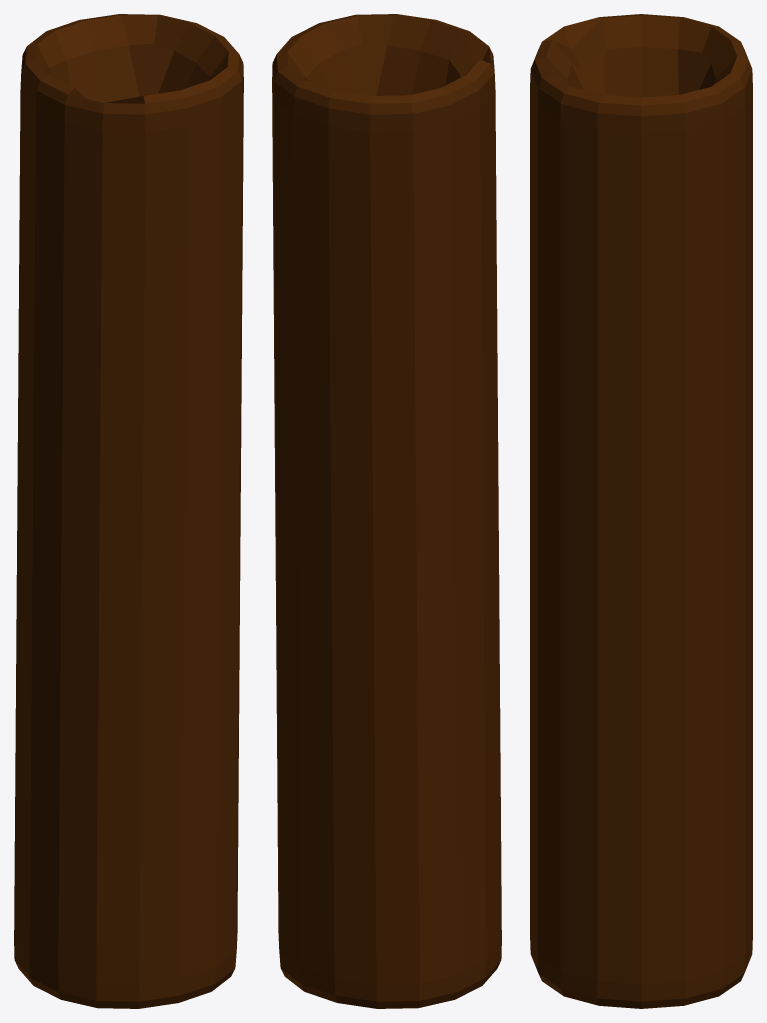
Rendered from Log.fbx.
The picture shows the model from 3 angles, left to right: view 1: azimuth 30°, elevation 25°; view 2: azimuth 150°, elevation 25°; view 3: azimuth 270°, elevation 25°; orthographic projection.
Parts seen in each view (by area): view 1: Plane; view 2: Plane; view 3: Plane.
Boxes of the visible parts, x1,y1,x2,y2 form: Plane: (14, 14, 243, 1008); Plane: (272, 14, 501, 1008); Plane: (530, 14, 752, 1008).
Bounding box in the file's own units: 33.65 × 147 × 32.57.
